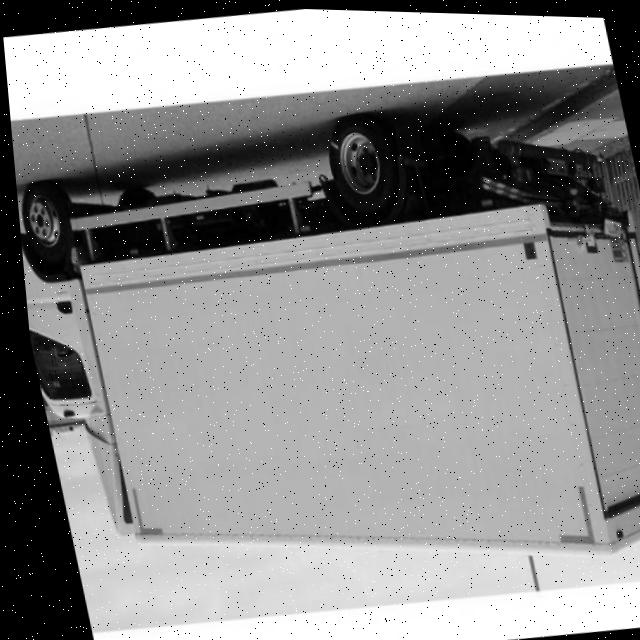truck: (7, 83, 640, 621)
